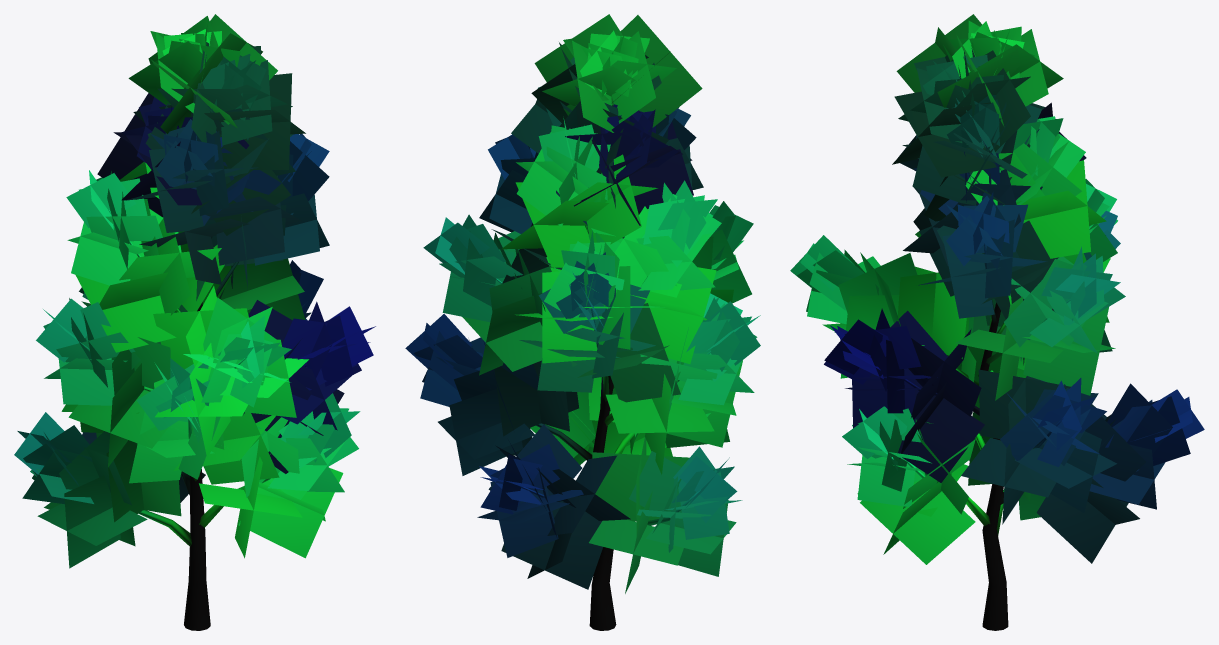
File: tree 1 lod1.FBX
3 renders of one model, left to right at view 1: azimuth 30°, elevation 25°; view 2: azimuth 150°, elevation 25°; view 3: azimuth 270°, elevation 25°, orthographic.
Visible parts, largest first — view 1: Tree lod1; view 2: Tree lod1; view 3: Tree lod1.
Part boxes in pixels (x1,y1,x2,y2): Tree lod1: (14, 14, 375, 630); Tree lod1: (405, 14, 760, 630); Tree lod1: (790, 14, 1204, 630).
Bounding box in the file's own units: 2.41 × 4.36 × 2.74.
